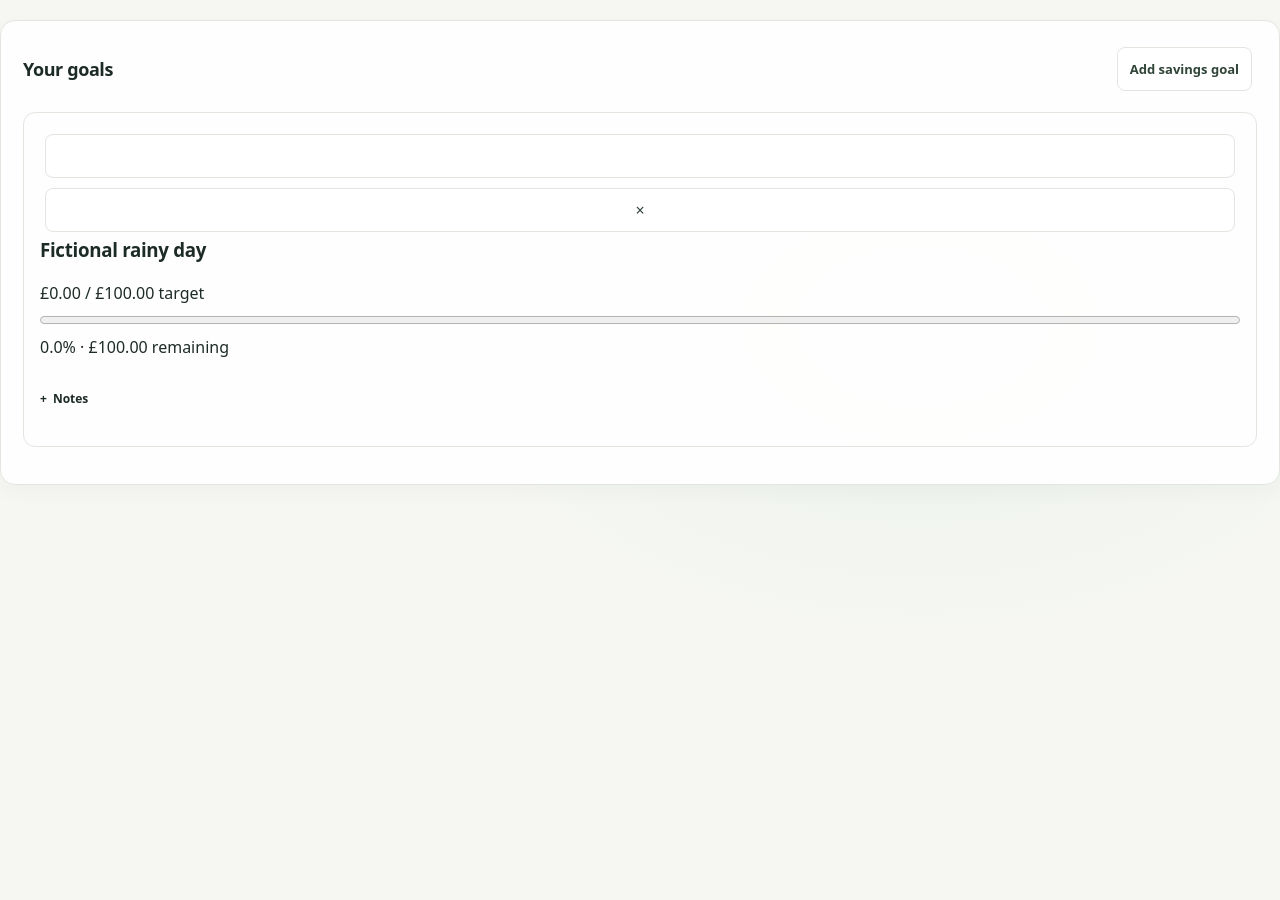
savings goals › rejects invalid target -1 and does not save
Expected: the heading "Fictional rainy day" is shown, [40,237,206,262]
Click the button "Add savings goal" at (1184, 69), box [1117,47,1252,91]
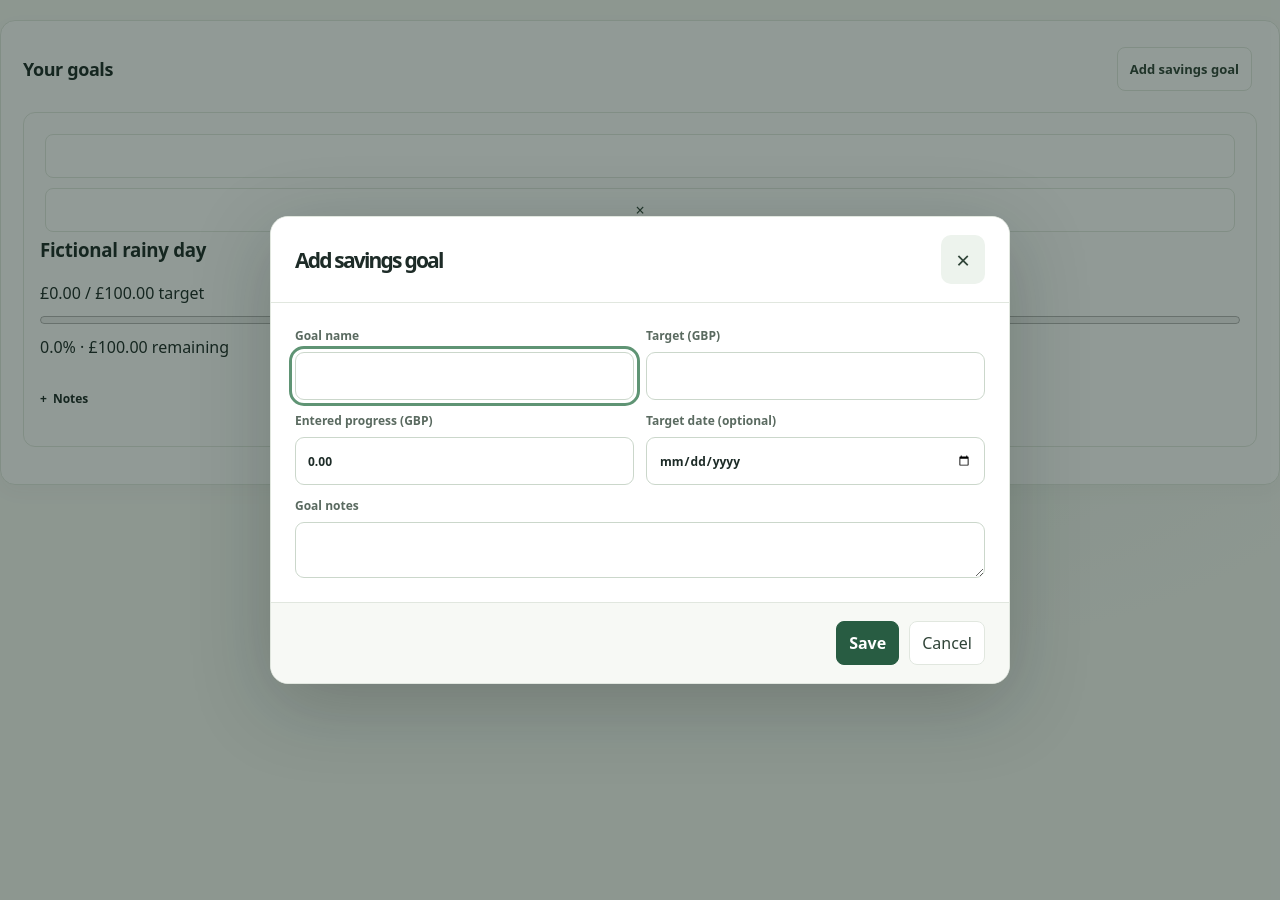
Type "Fictional goal" into the field labelled "Goal name" at (464, 376), box [295,352,634,400]
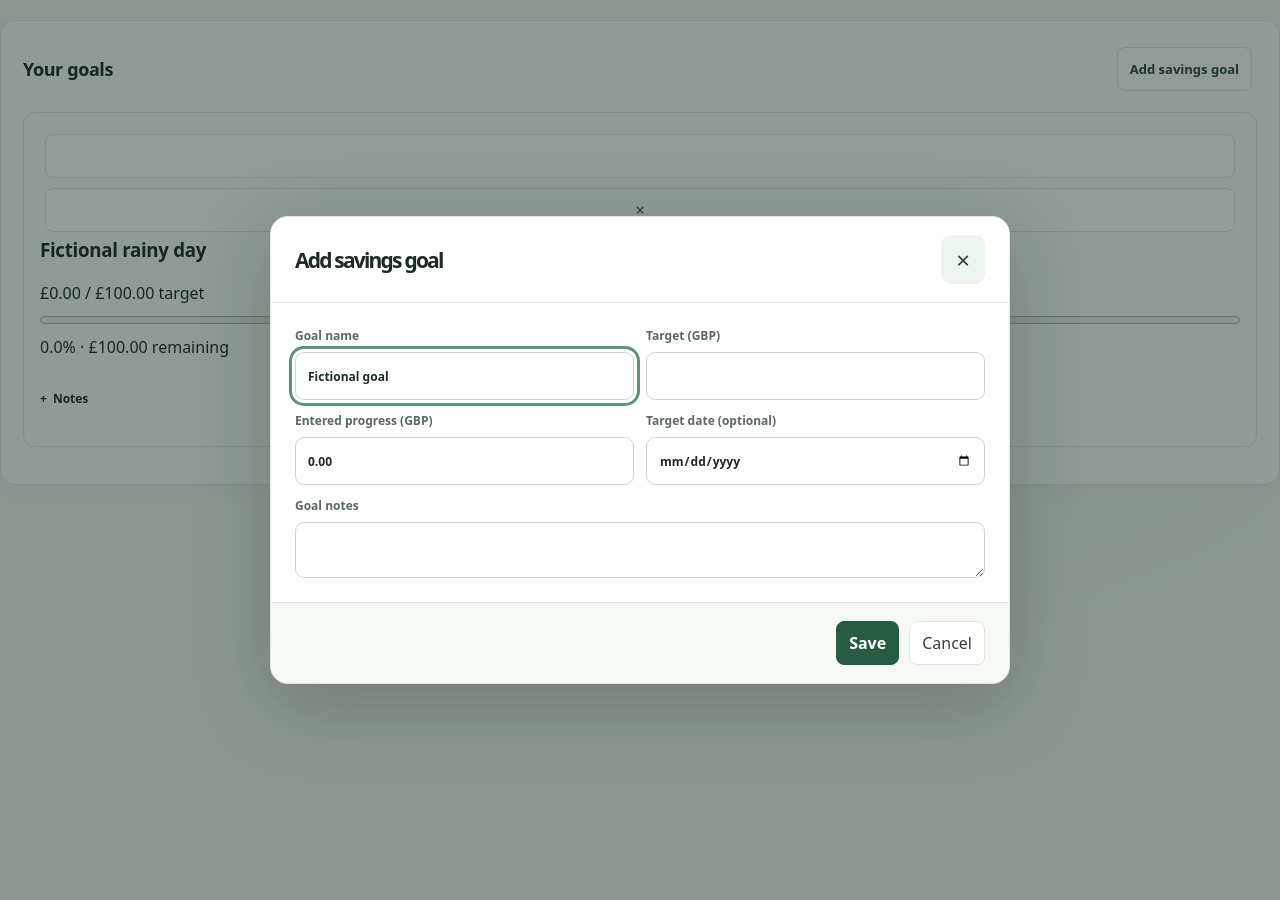
Type "-1" into the field labelled "Target (GBP)" at (816, 376), box [646,352,985,400]
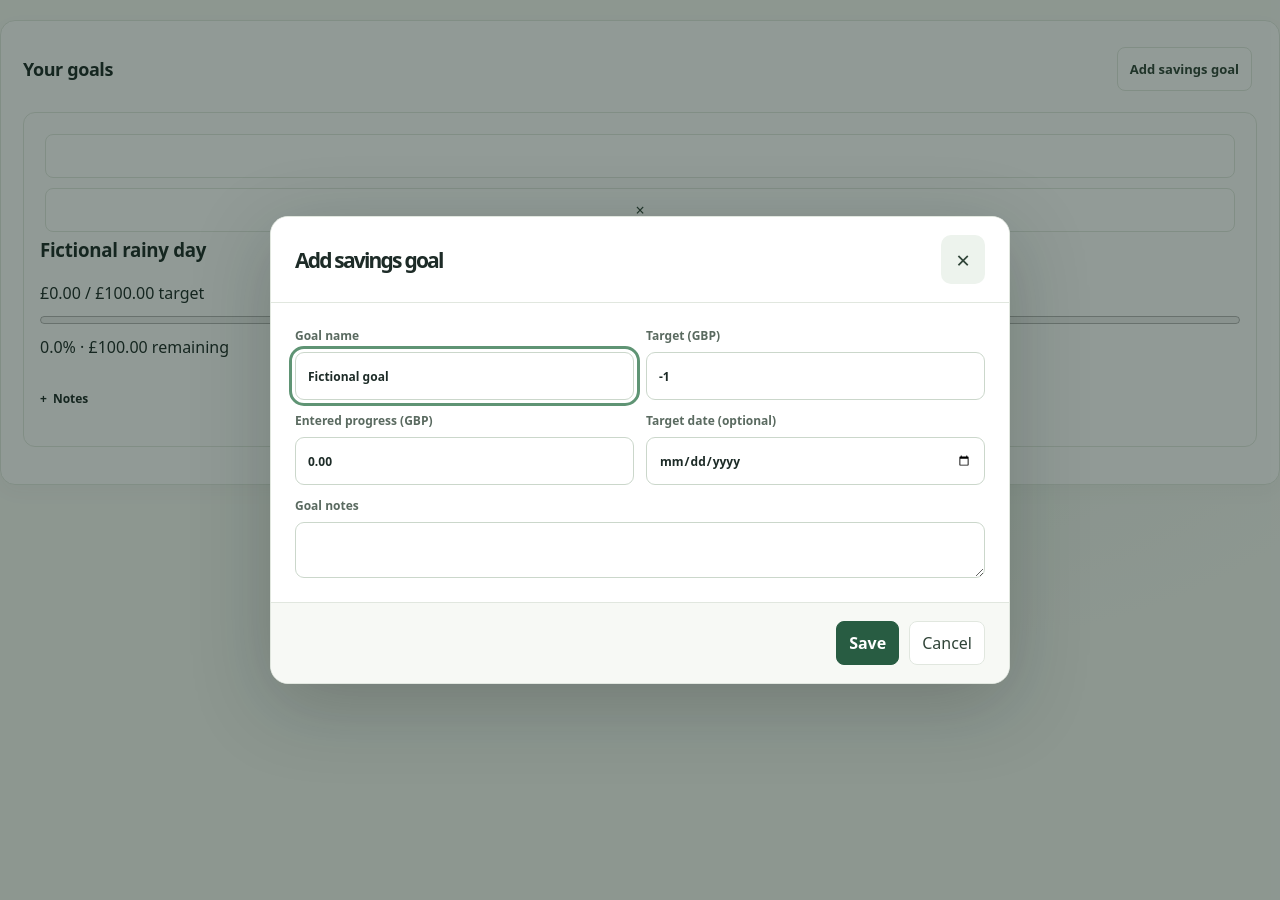
Click the button with aria-label "Save savings goal" at (868, 643), box [836,621,899,665]
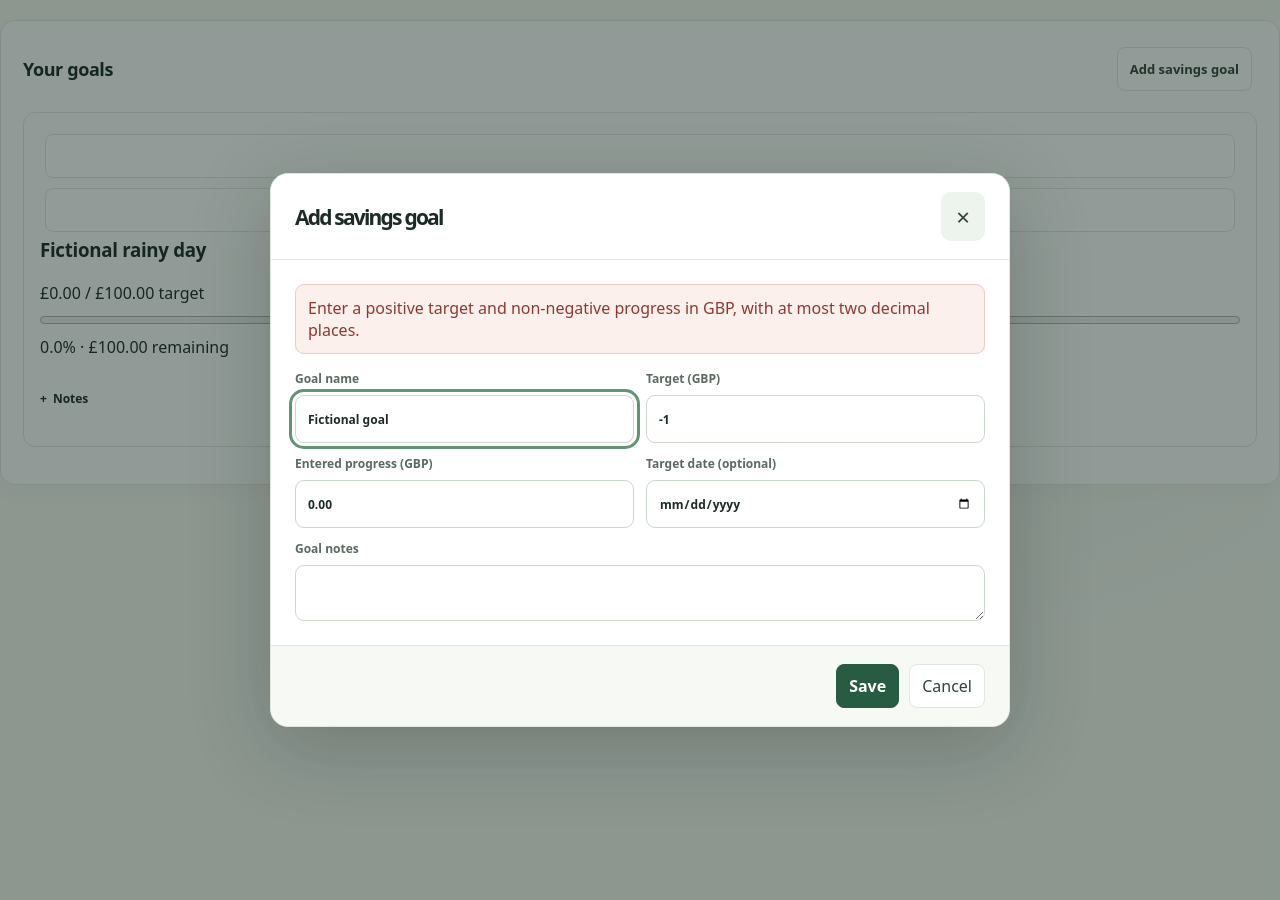
Expected: the message shows "positive target", [308,297,930,341]
